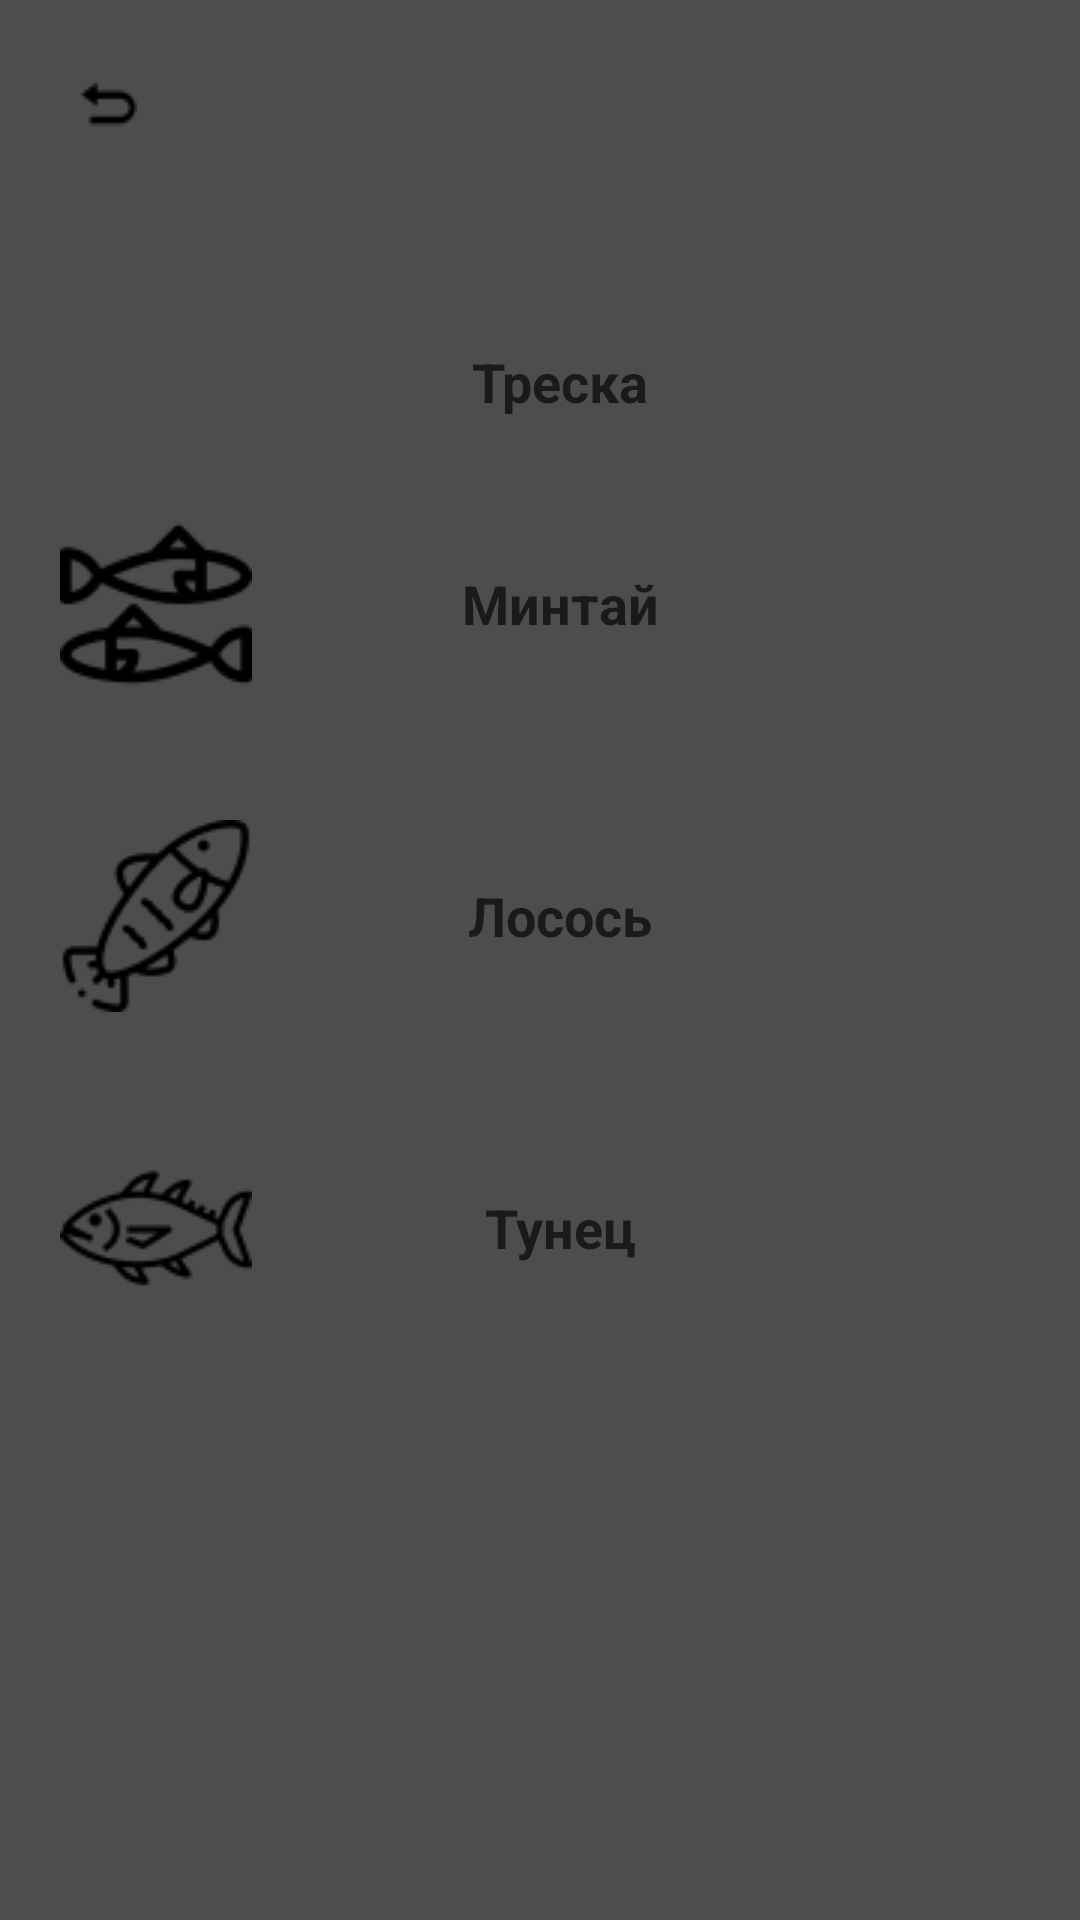

Icons on this 1080×1920 Android screen, each with the point to tap as [x,y]:
fish tynec: [156,1228]
losos: [156,916]
mintai: [156,604]
return: [109,104]
